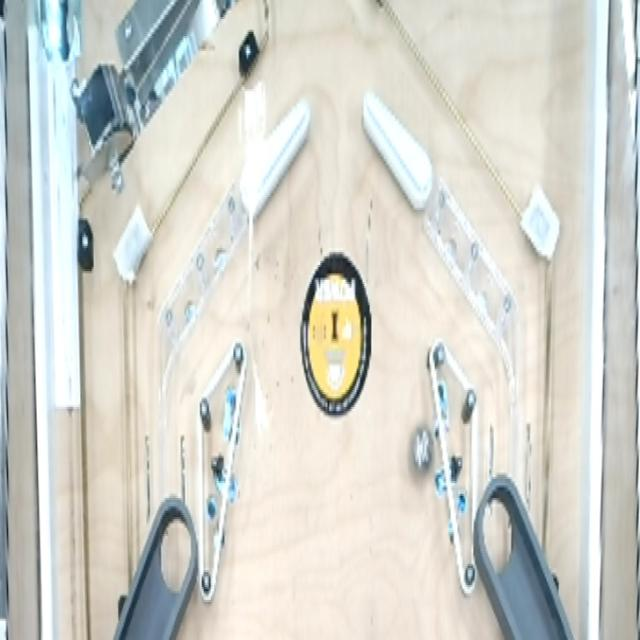ball: (408, 420, 437, 488)
flipper-left: (356, 76, 436, 221)
flipper-right: (236, 81, 313, 231)
